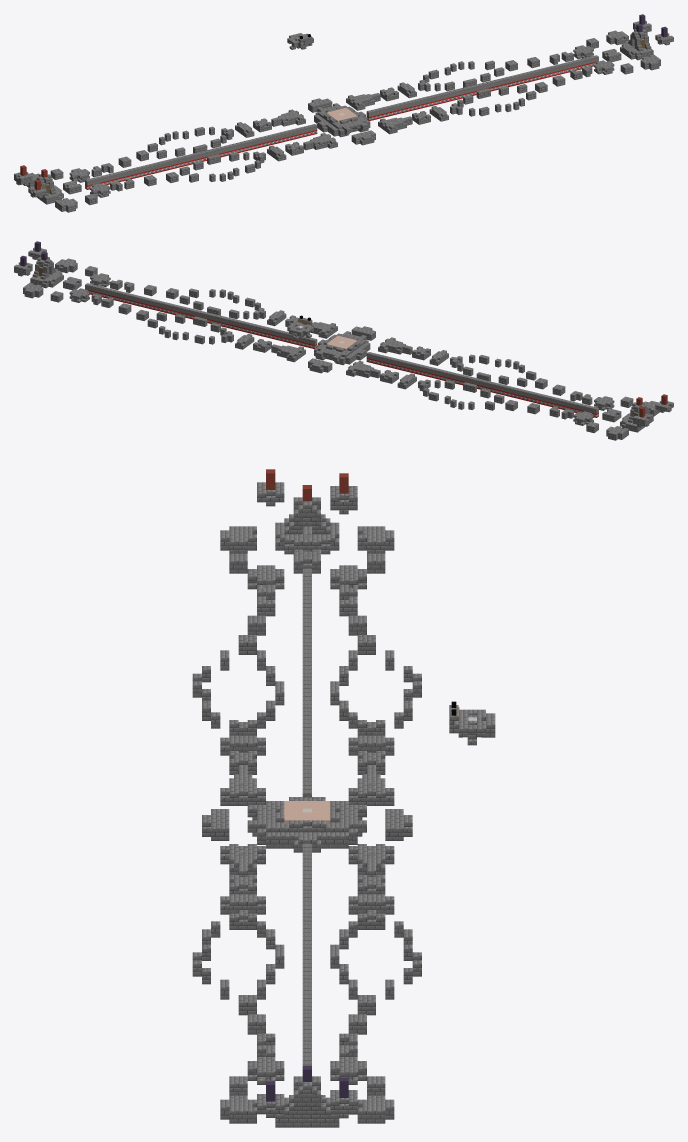
Rendered from minecraft.obj.
3 views of the same model, one above another, from view 1: azimuth 30°, elevation 25°; view 2: azimuth 150°, elevation 25°; view 3: azimuth 270°, elevation 25° (orthographic). The views are drawn at different scales.
Bounding box in the file's own units: 161 × 15.52 × 33.
